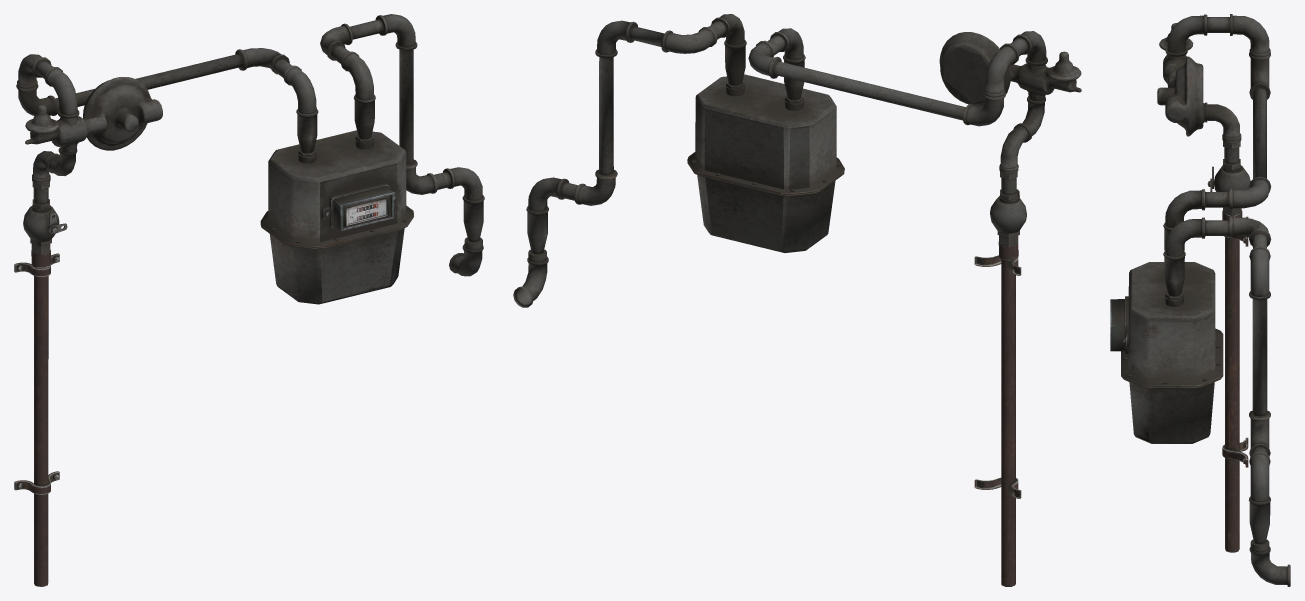
File: gas_meter.glb
3 renders of one model, left to right at view 1: azimuth 30°, elevation 25°; view 2: azimuth 150°, elevation 25°; view 3: azimuth 270°, elevation 25°, orthographic. The views are drawn at different scales.
Parts seen in each view (by area): view 1: gas_meter; view 2: gas_meter; view 3: gas_meter.
Part boxes in pixels (x1,y1,x2,y2): gas_meter: [14, 14, 484, 586]; gas_meter: [513, 14, 1081, 586]; gas_meter: [1110, 14, 1290, 586].
Size of the model in its own units: 1.09 by 1.1 by 0.336.
1 material, 1 textured.
